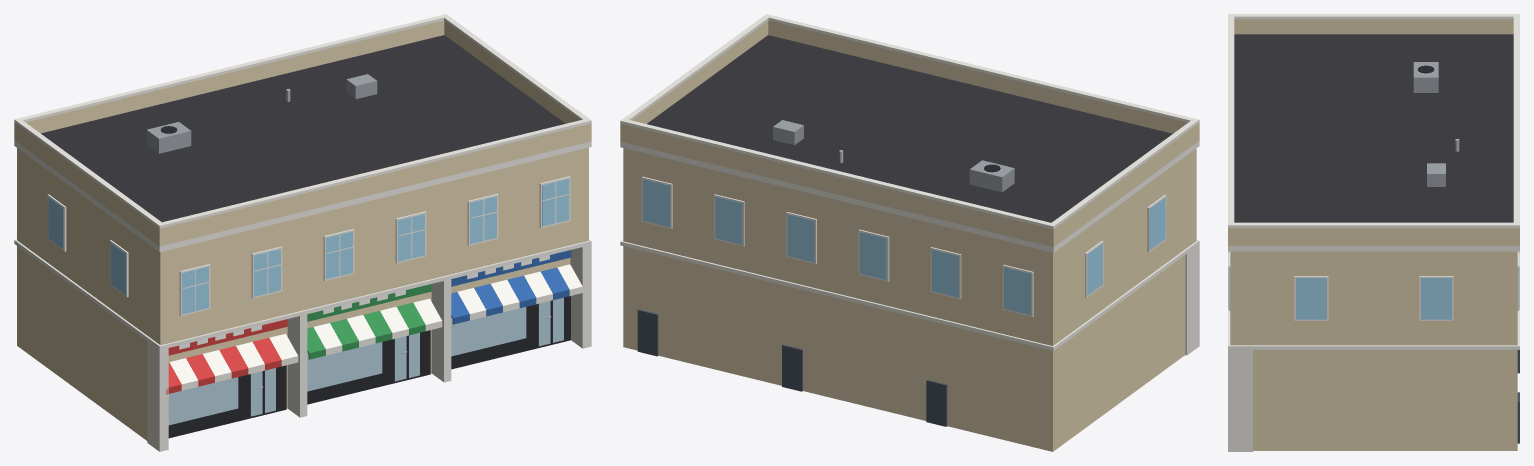
Rendered from building_shops.glb.
The picture shows the model from 3 angles, left to right: view 1: azimuth 30°, elevation 25°; view 2: azimuth 150°, elevation 25°; view 3: azimuth 270°, elevation 25°; orthographic projection.
Parts seen in each view (by area): view 1: body; view 2: body; view 3: body.
Part boxes in pixels (left/top/right/bottom): body: left=14, top=14, right=591, bottom=451; body: left=620, top=14, right=1199, bottom=451; body: left=1228, top=14, right=1519, bottom=451.
Size of the model in its own units: 2400 by 1200 by 1400.
